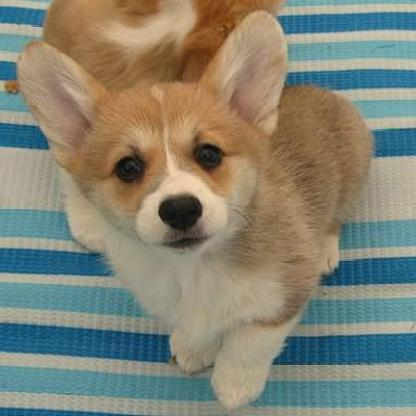Pembroke: (13, 0, 375, 412)
